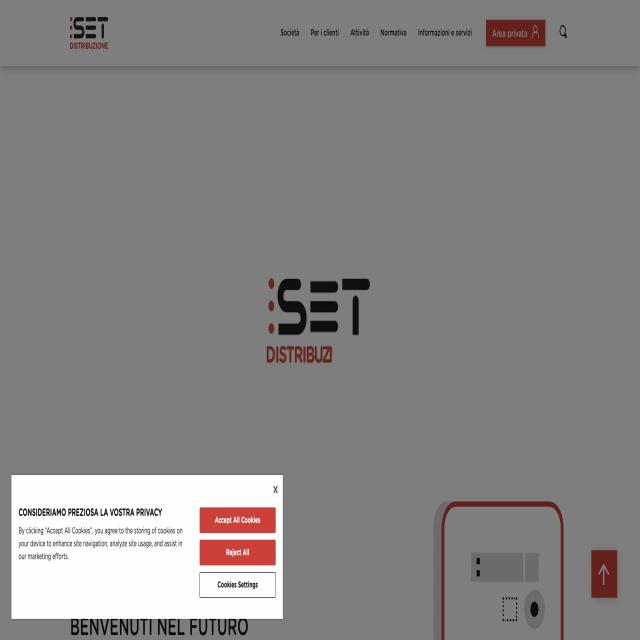Logo: (60, 1, 130, 66)
Navigation: (274, 16, 574, 57)
